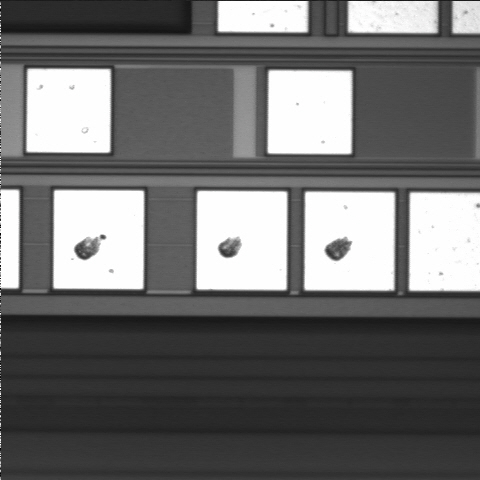pad: (304, 192, 395, 290), (54, 190, 144, 289), (197, 191, 287, 290), (268, 70, 352, 154), (27, 69, 110, 153)
